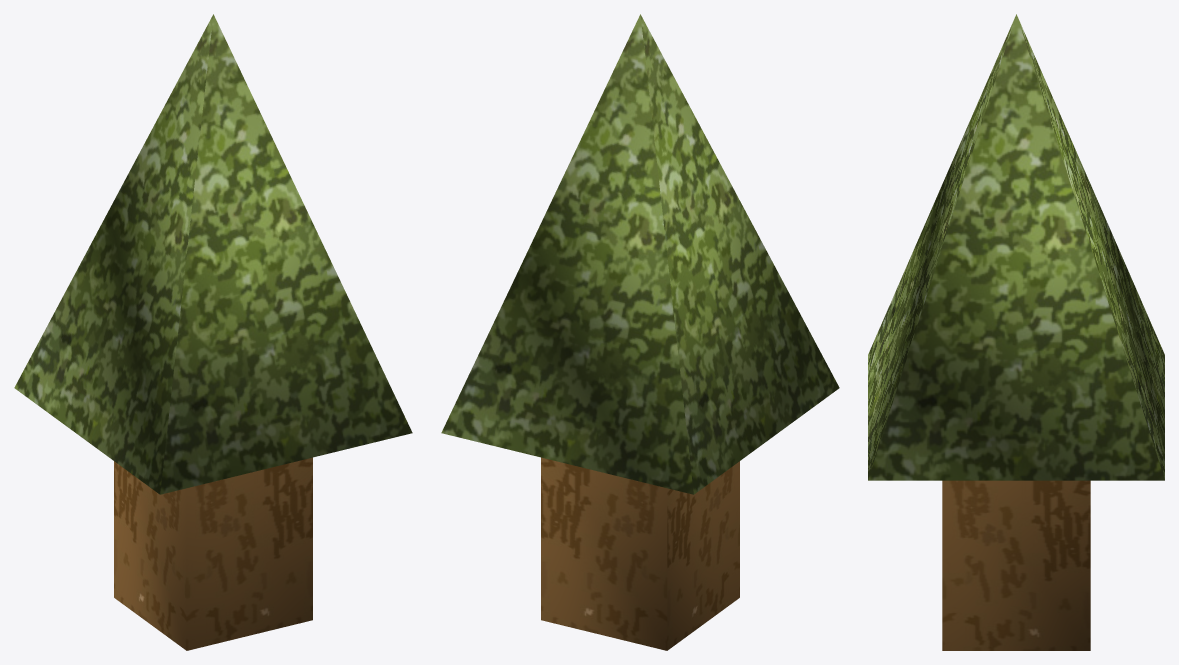
The model's file is lowpolytree.fbx.
The picture shows the model from 3 angles, left to right: view 1: azimuth 30°, elevation 25°; view 2: azimuth 150°, elevation 25°; view 3: azimuth 270°, elevation 25°; orthographic projection.
Visible parts, largest first — view 1: Cube; view 2: Cube; view 3: Cube.
Part boxes in pixels (x1,y1,x2,y2): Cube: (14, 14, 412, 650); Cube: (441, 14, 839, 650); Cube: (868, 14, 1164, 650).
Size of the model in its own units: 4 by 9 by 4.
Materials: 1 (1 with a texture image).
